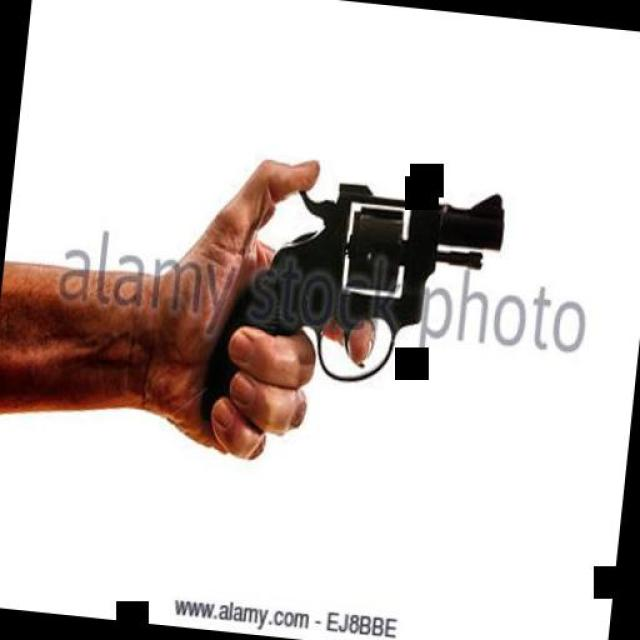gun: (197, 158, 508, 458)
